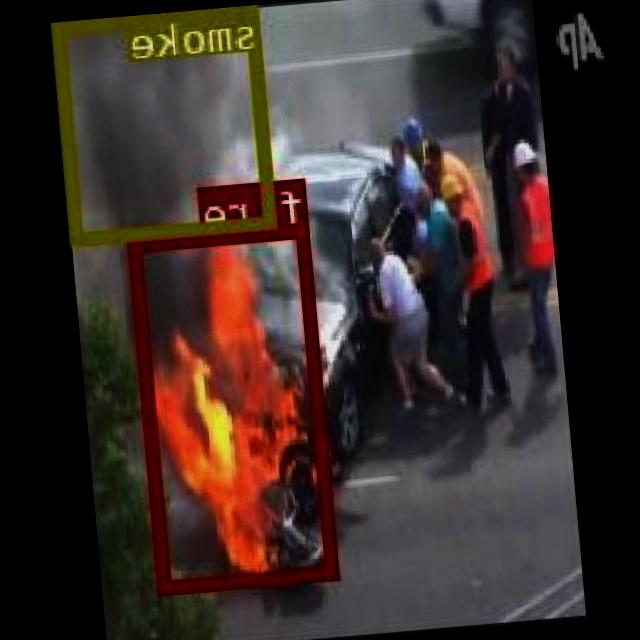fire: (130, 220, 342, 590)
smoke: (56, 4, 280, 241)
